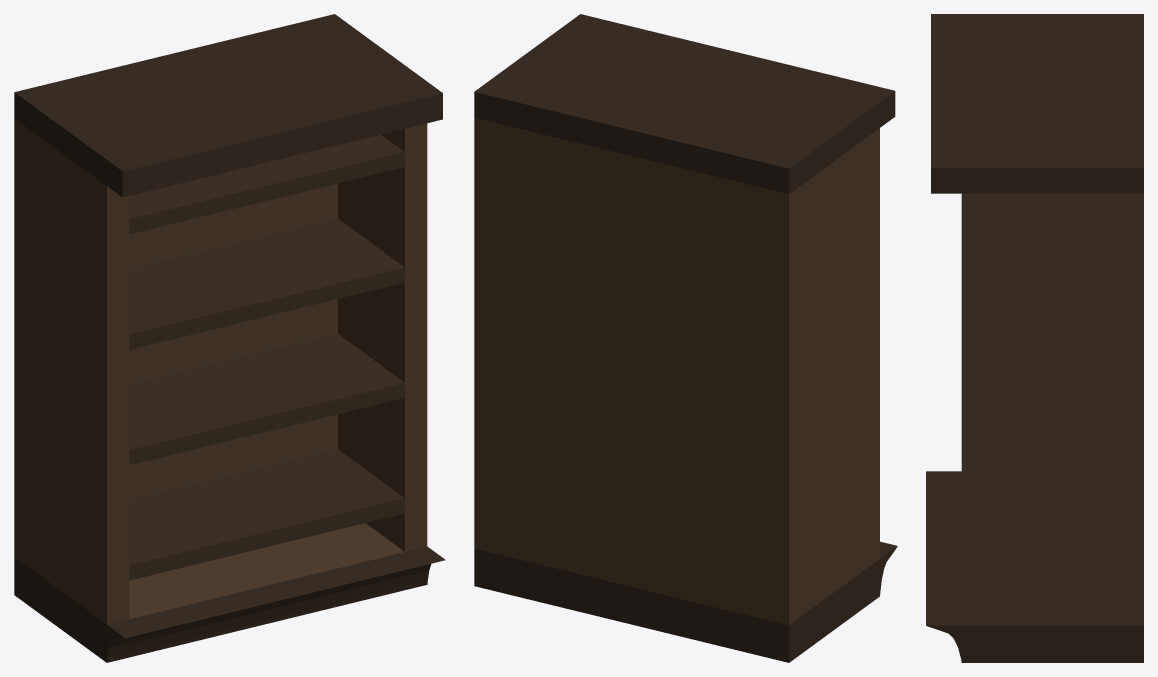
File: Schrank03.fbx
The picture shows the model from 3 angles, left to right: view 1: azimuth 30°, elevation 25°; view 2: azimuth 150°, elevation 25°; view 3: azimuth 270°, elevation 25°; orthographic projection.
Parts seen in each view (by area): view 1: Cube.010; view 2: Cube.010; view 3: Cube.010.
Part boxes in pixels (box(x1,y1,x2,y2)): Cube.010: box(14, 14, 445, 662); Cube.010: box(474, 14, 897, 662); Cube.010: box(926, 14, 1143, 662).
Size of the model in its own units: 236 by 353 by 141.
